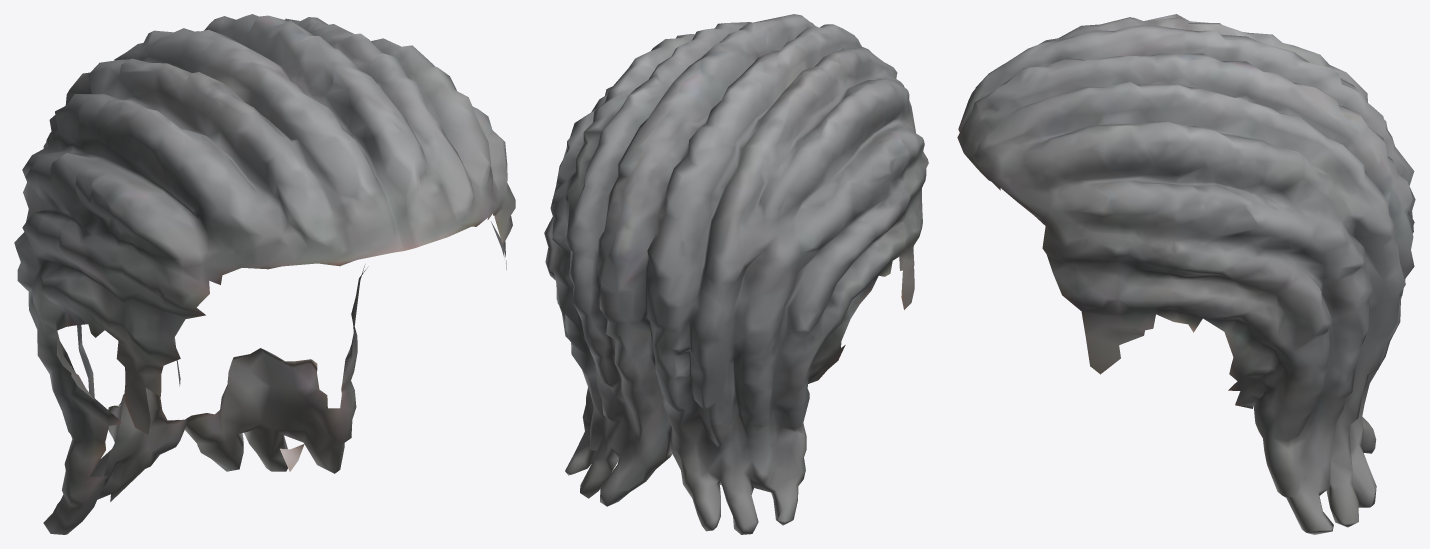
File: hair-m-cornrows.glb
3 views of the same model, side by side, from view 1: azimuth 30°, elevation 25°; view 2: azimuth 150°, elevation 25°; view 3: azimuth 270°, elevation 25° (orthographic). The views are drawn at different scales.
Visible parts, largest first — view 1: hair-m-cornrows; view 2: hair-m-cornrows; view 3: hair-m-cornrows.
Part boxes in pixels (x1,y1,x2,y2): hair-m-cornrows: [14, 14, 515, 534]; hair-m-cornrows: [544, 14, 928, 534]; hair-m-cornrows: [957, 14, 1415, 534].
Size of the model in its own units: 0.7912 by 1 by 0.9416.
1 material, 1 textured.
